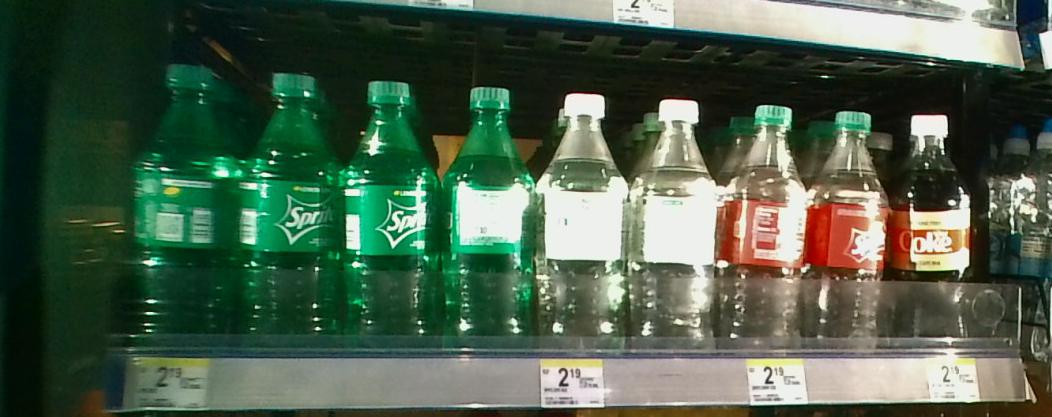bottle: (115, 44, 236, 333), (240, 73, 346, 337), (346, 73, 444, 339), (536, 83, 628, 344), (444, 85, 535, 342), (885, 93, 971, 355), (630, 94, 718, 350), (718, 93, 807, 343), (806, 92, 884, 347)
